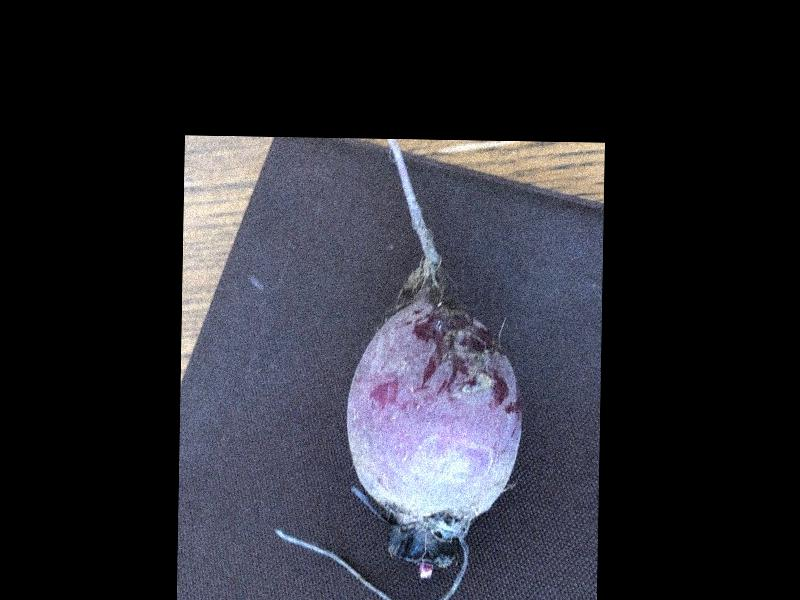Beet: (272, 136, 528, 600)
